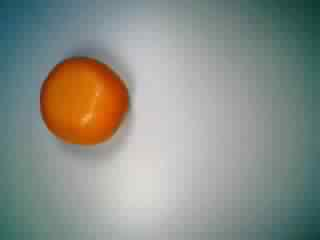orange: (35, 52, 130, 154)
